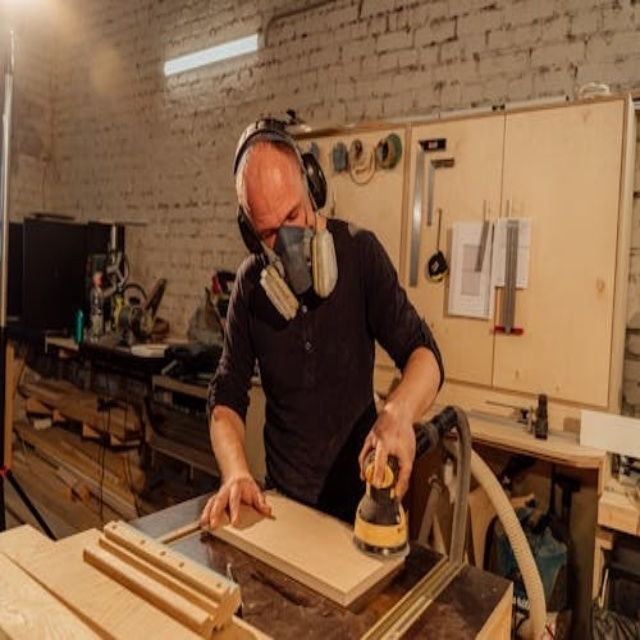Mascara: (256, 206, 339, 325)
Sin_gafas: (252, 183, 306, 246)
Sin_guantes: (361, 397, 417, 500), (201, 470, 273, 532)
